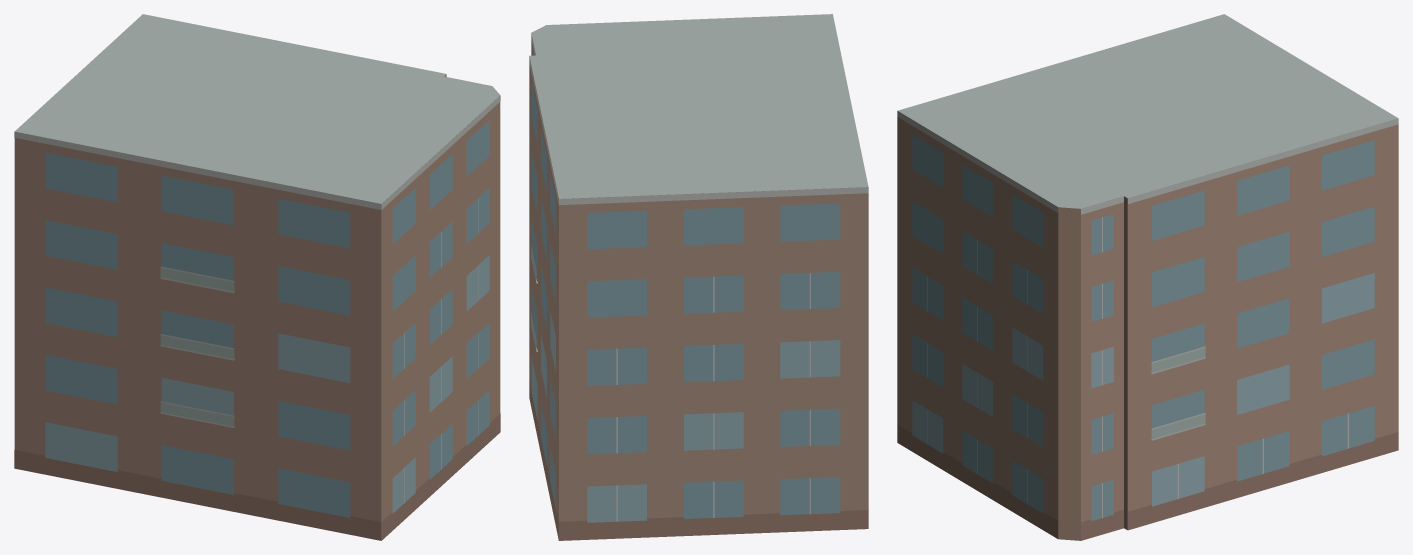
The model's file is survey-upis-32625837.glb.
3 views of the same model, side by side, from view 1: azimuth 30°, elevation 25°; view 2: azimuth 150°, elevation 25°; view 3: azimuth 270°, elevation 25° (orthographic). The views are drawn at different scales.
Parts seen in each view (by area): view 1: survey-upis-32625837.tmp; view 2: survey-upis-32625837.tmp; view 3: survey-upis-32625837.tmp.
Boxes of the visible parts, <box> form: survey-upis-32625837.tmp: <box>14,14,500,540</box>; survey-upis-32625837.tmp: <box>529,14,868,540</box>; survey-upis-32625837.tmp: <box>897,14,1398,540</box>.
Size of the model in its own units: 16.87 by 13.4 by 18.33.
